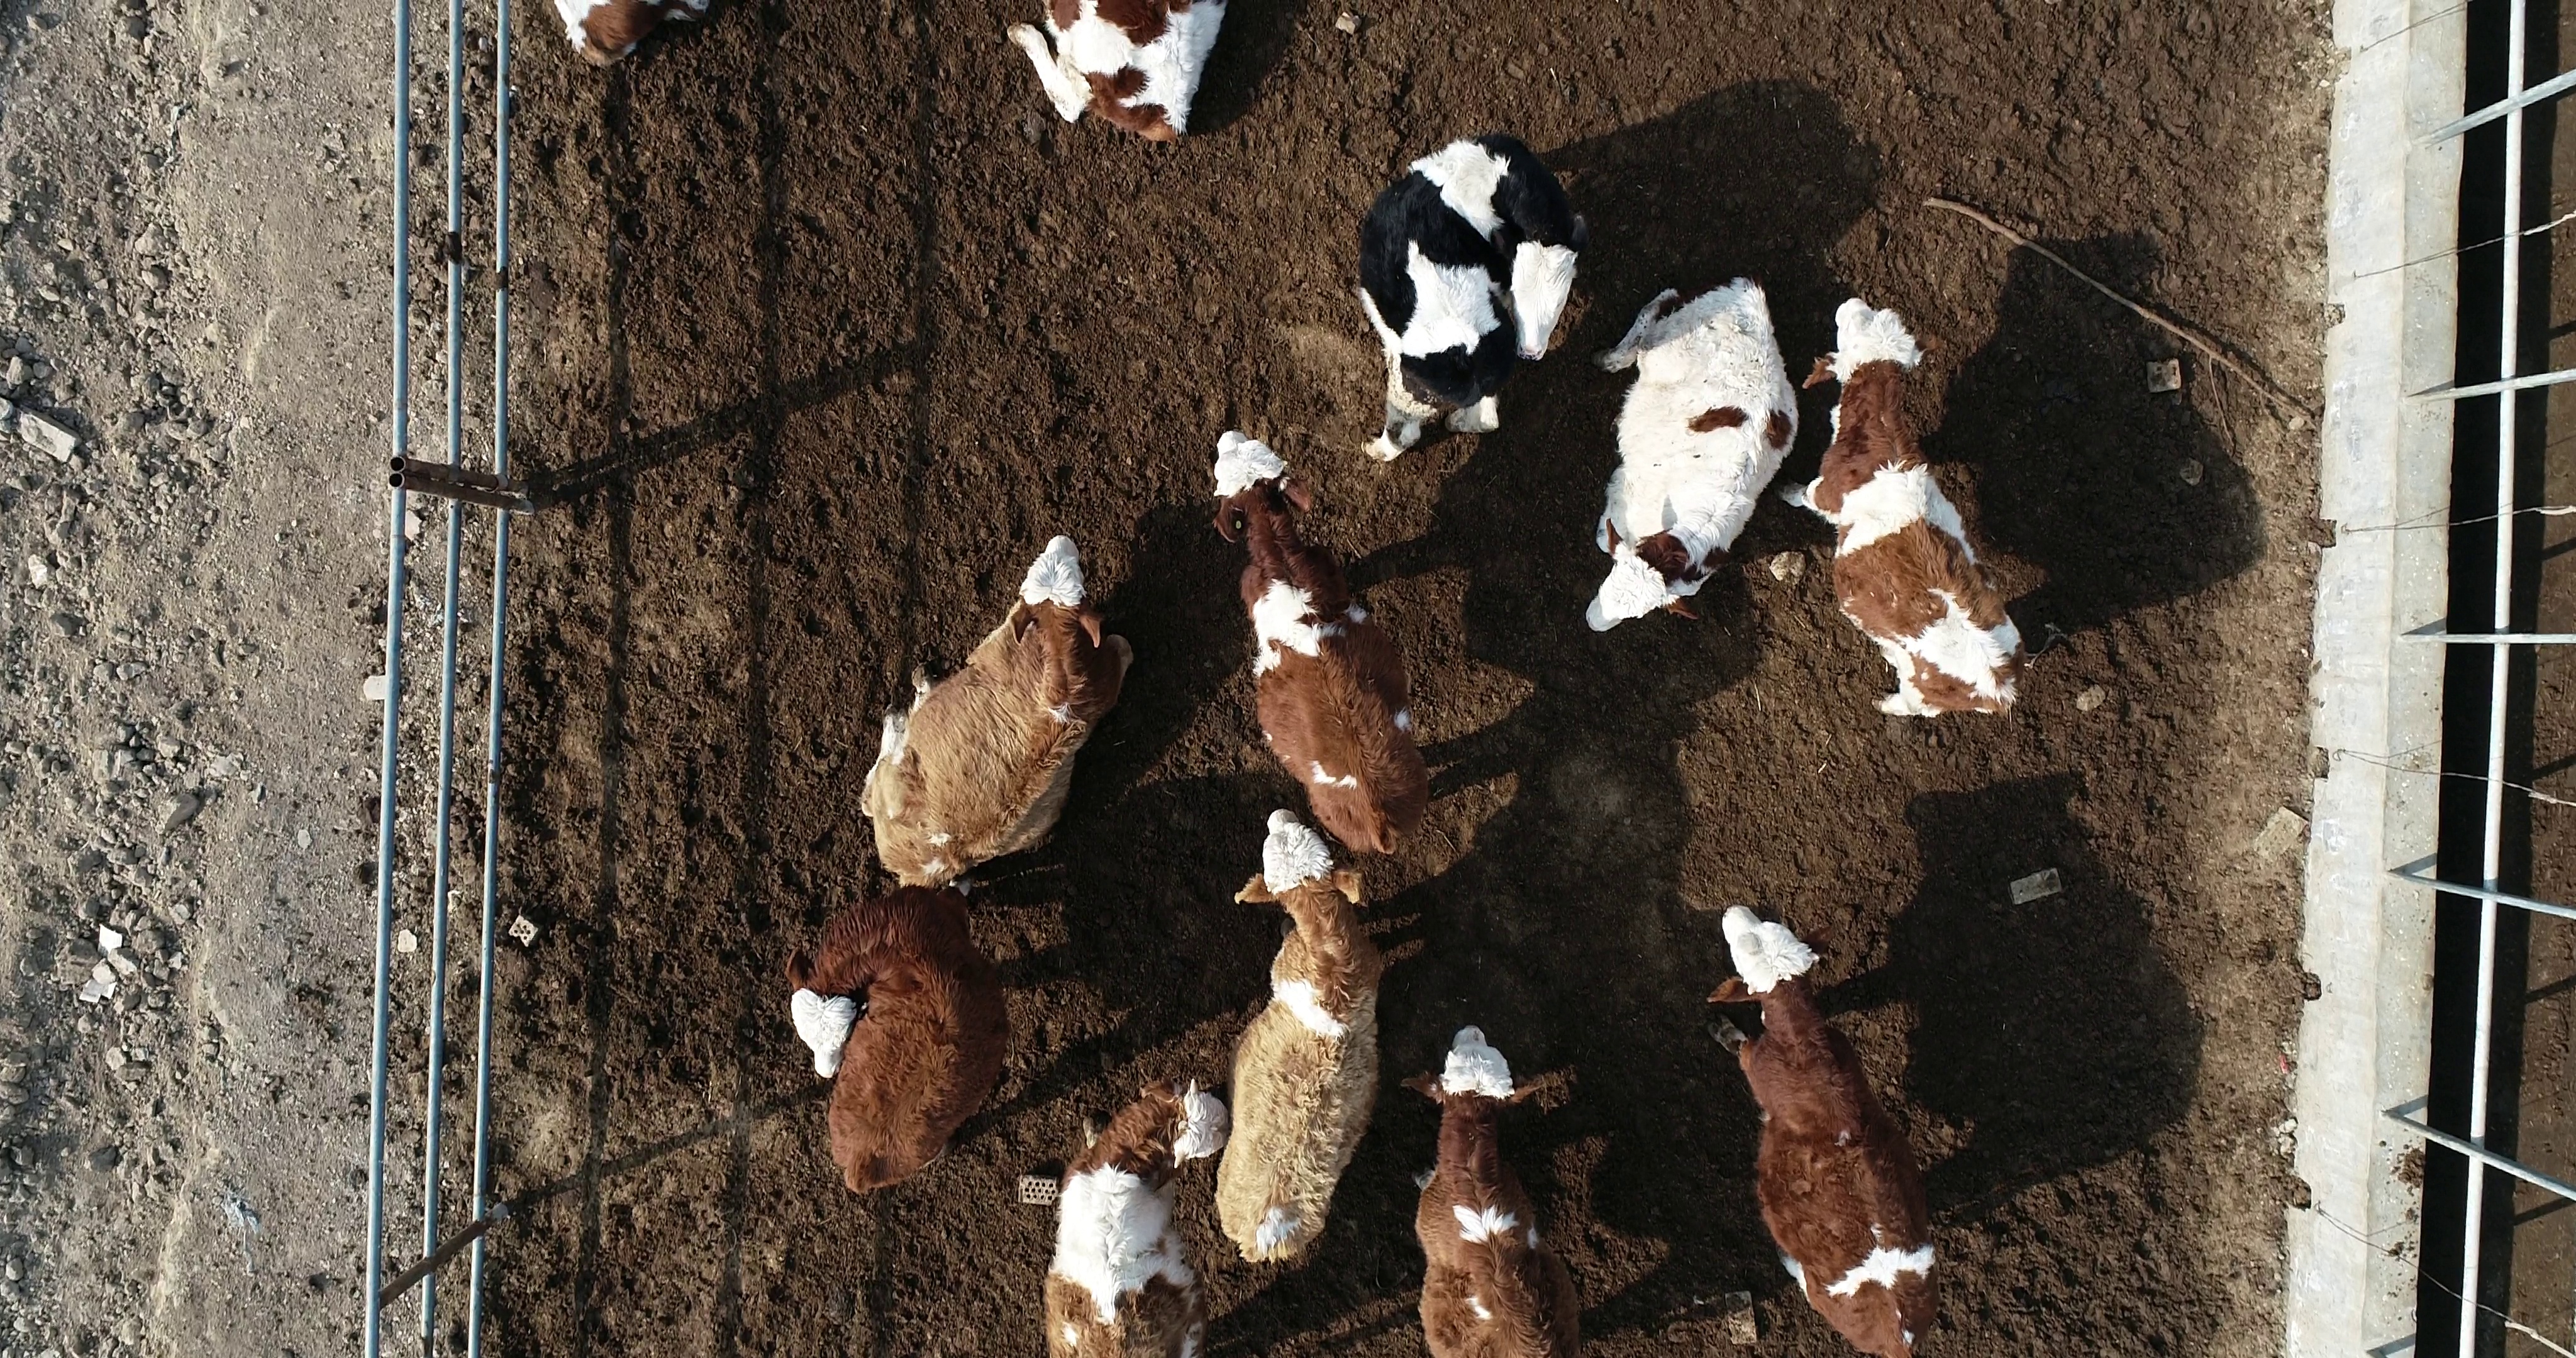cattle: (1697, 901, 1951, 1356), (1777, 290, 2033, 729), (843, 527, 1143, 898), (1205, 428, 1438, 864), (1205, 804, 1385, 1271), (1579, 266, 1801, 641), (1349, 129, 1591, 465), (773, 881, 1017, 1198)
